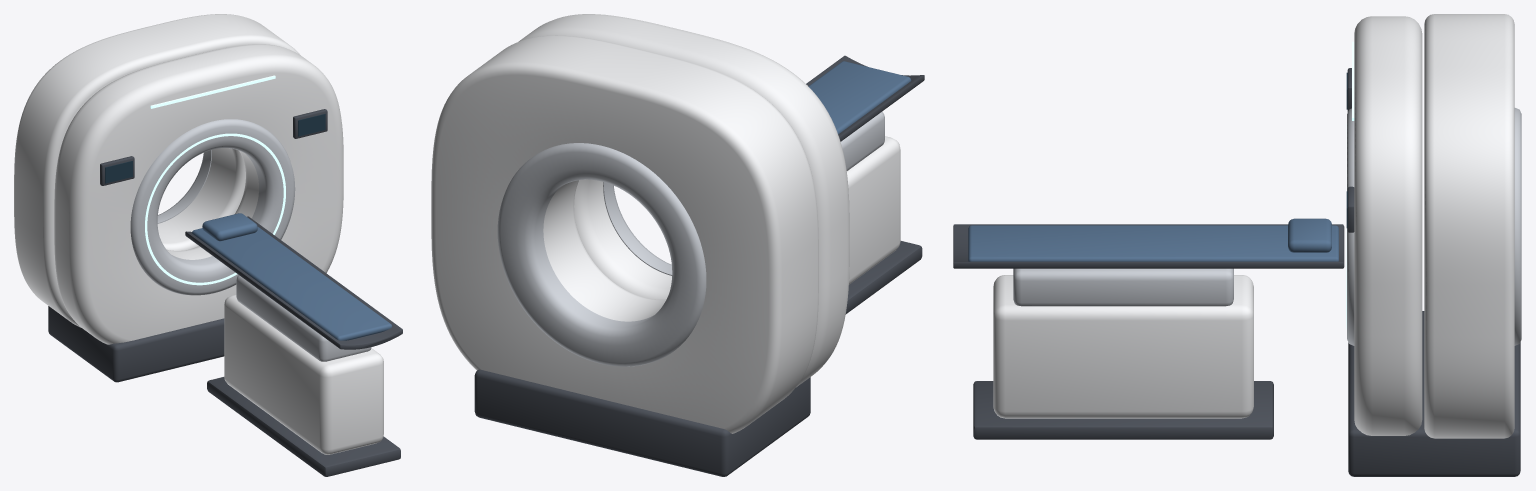
Rendered from CT_Scanner.fbx.
3 views of the same model, side by side, from view 1: azimuth 30°, elevation 25°; view 2: azimuth 150°, elevation 25°; view 3: azimuth 270°, elevation 25° (orthographic). The views are drawn at different scales.
Parts seen in each view (by area): view 1: CT_Cover, CT_Housing, CT_CouchBase, CT_BezelFront, CT_Pad, CT_Base, CT_CouchFoot, CT_CouchLift, CT_Tabletop, CT_BezelFrontLED, CT_HeadRest, CT_BezelRear (+3 smaller); view 2: CT_Housing, CT_BezelRear, CT_Cover, CT_Base, CT_CouchBase, CT_Pad, CT_CouchFoot, CT_BezelFront, CT_CouchLift, CT_Tabletop; view 3: CT_Housing, CT_CouchBase, CT_Cover, CT_Pad, CT_Base, CT_CouchLift, CT_CouchFoot, CT_Tabletop, CT_BezelRear, CT_HeadRest, CT_BezelFront.
Part boxes in pixels (<box>): CT_Cover: <box>54,44,343,344</box>; CT_Housing: <box>14,14,299,327</box>; CT_CouchBase: <box>224,294,383,454</box>; CT_BezelFront: <box>130,119,295,295</box>; CT_Pad: <box>192,227,392,340</box>; CT_Base: <box>48,306,224,382</box>; CT_CouchFoot: <box>207,377,400,476</box>; CT_CouchLift: <box>236,275,371,361</box>; CT_Tabletop: <box>185,216,402,349</box>; CT_BezelFrontLED: <box>145,133,285,285</box>; CT_HeadRest: <box>202,213,257,241</box>; CT_BezelRear: <box>157,150,211,223</box>; CT_Housing: <box>431,35,818,433</box>; CT_BezelRear: <box>497,143,706,366</box>; CT_Cover: <box>518,14,849,387</box>; CT_Base: <box>474,369,810,476</box>; CT_CouchBase: <box>846,136,900,284</box>; CT_Pad: <box>808,61,911,134</box>; CT_CouchFoot: <box>845,241,922,314</box>; CT_BezelFront: <box>603,182,672,275</box>; CT_CouchLift: <box>840,112,884,170</box>; CT_Tabletop: <box>806,55,924,141</box>; CT_Housing: <box>1424,14,1514,438</box>; CT_CouchBase: <box>993,275,1253,418</box>; CT_Cover: <box>1354,16,1422,435</box>; CT_Pad: <box>968,225,1338,261</box>; CT_Base: <box>1348,311,1520,476</box>; CT_CouchLift: <box>1013,268,1233,306</box>; CT_CouchFoot: <box>973,381,1273,439</box>; CT_Tabletop: <box>953,224,1344,268</box>; CT_BezelRear: <box>1514,108,1521,345</box>; CT_HeadRest: <box>1288,218,1331,252</box>; CT_BezelFront: <box>1347,108,1354,345</box>.
Size of the model in its own units: 2 by 2 by 2.84.
